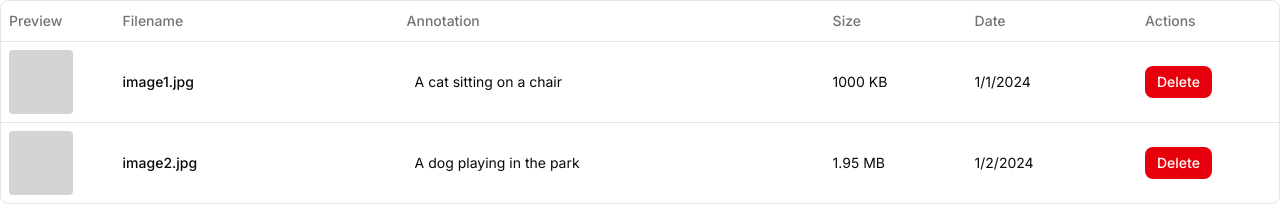
Test: ImageTable › should navigate backwards with Shift+Tab key
The image size is (1280, 221).
Click on second annotation to start editing
Click the text "A dog playing in the park": coordinates (497, 162) [415,154,580,170]
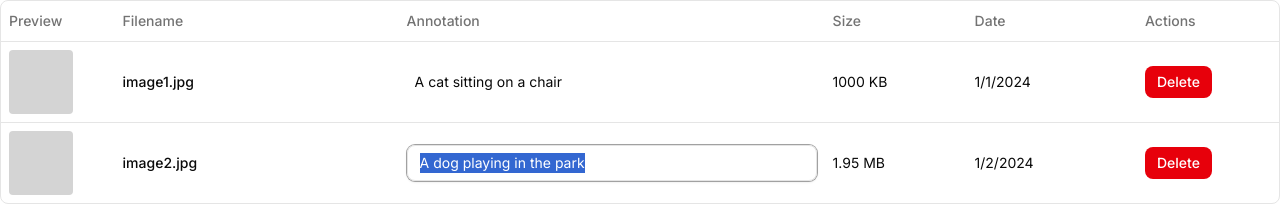
Check: the field showing "A dog playing in the park" is shown, box [407,144,817,180]
Press Shift+Tab to move to previous annotation
Type keys "{Shift>}{Tab}{/Shift}"
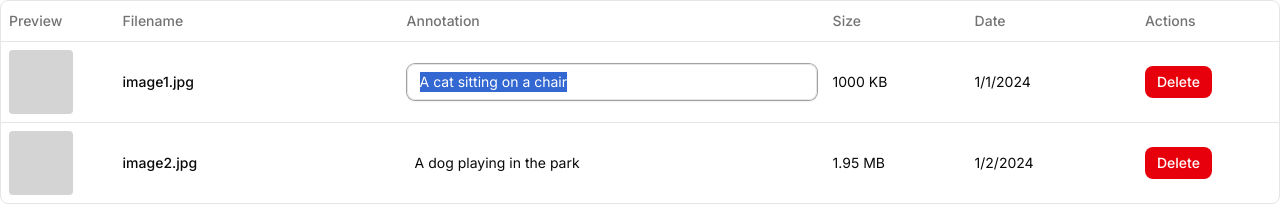
Check: the field showing "A cat sitting on a chair" is shown, box [407,64,817,100]
